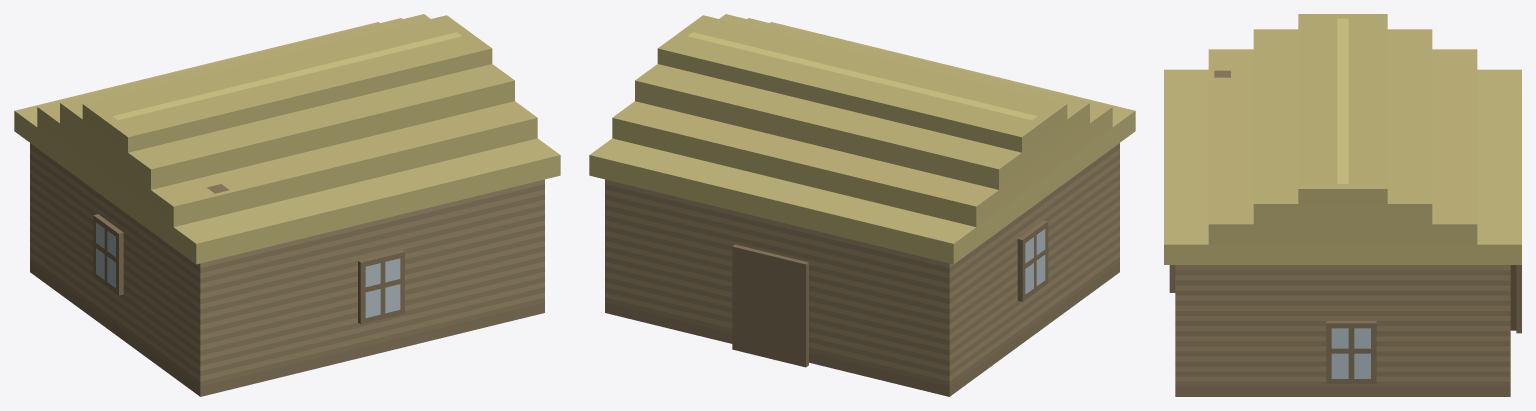
Rendered from cabana_apicultor_01.glb.
3 views of the same model, side by side, from view 1: azimuth 30°, elevation 25°; view 2: azimuth 150°, elevation 25°; view 3: azimuth 270°, elevation 25° (orthographic).
Visible parts, largest first — view 1: cabana_apicultor_01; view 2: cabana_apicultor_01; view 3: cabana_apicultor_01.
Part boxes in pixels (bbox=[...]): cabana_apicultor_01: bbox=[14, 14, 560, 396]; cabana_apicultor_01: bbox=[589, 14, 1135, 396]; cabana_apicultor_01: bbox=[1164, 14, 1521, 396].
Size of the model in its own units: 7.4 by 4.2 by 6.4.
